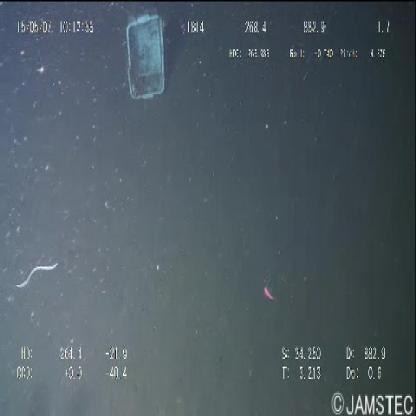Rác: (121, 9, 168, 105)
